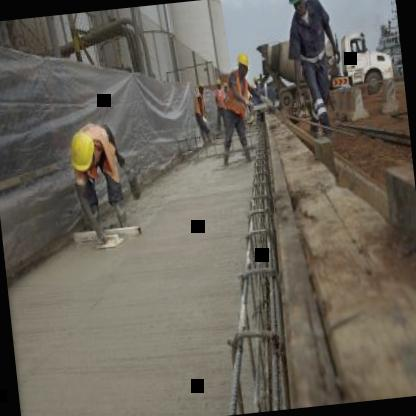helmet: (64, 124, 104, 184), (287, 0, 312, 20), (235, 51, 251, 79)
